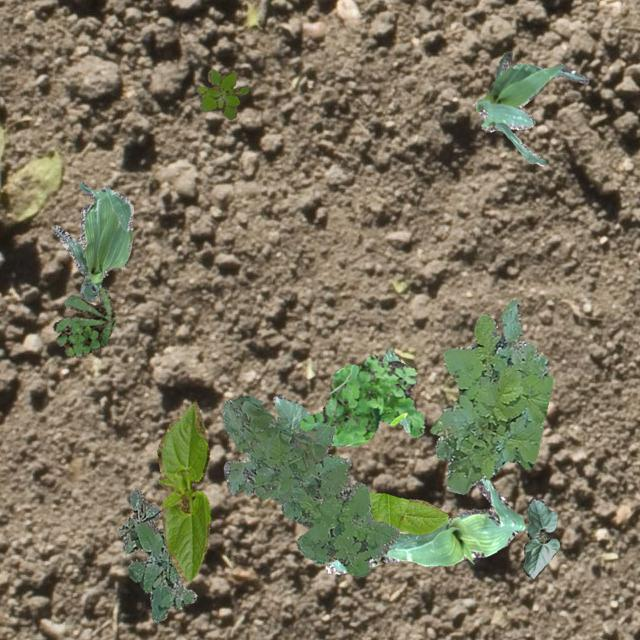crop: (324, 476, 524, 574), (472, 50, 588, 164), (156, 400, 210, 580), (51, 180, 132, 300), (368, 492, 448, 534), (520, 497, 560, 578), (380, 348, 410, 432), (272, 393, 308, 432)
weed: (222, 394, 398, 576), (428, 298, 552, 494), (298, 354, 424, 446), (116, 488, 196, 622), (52, 286, 115, 356), (196, 68, 247, 118)
